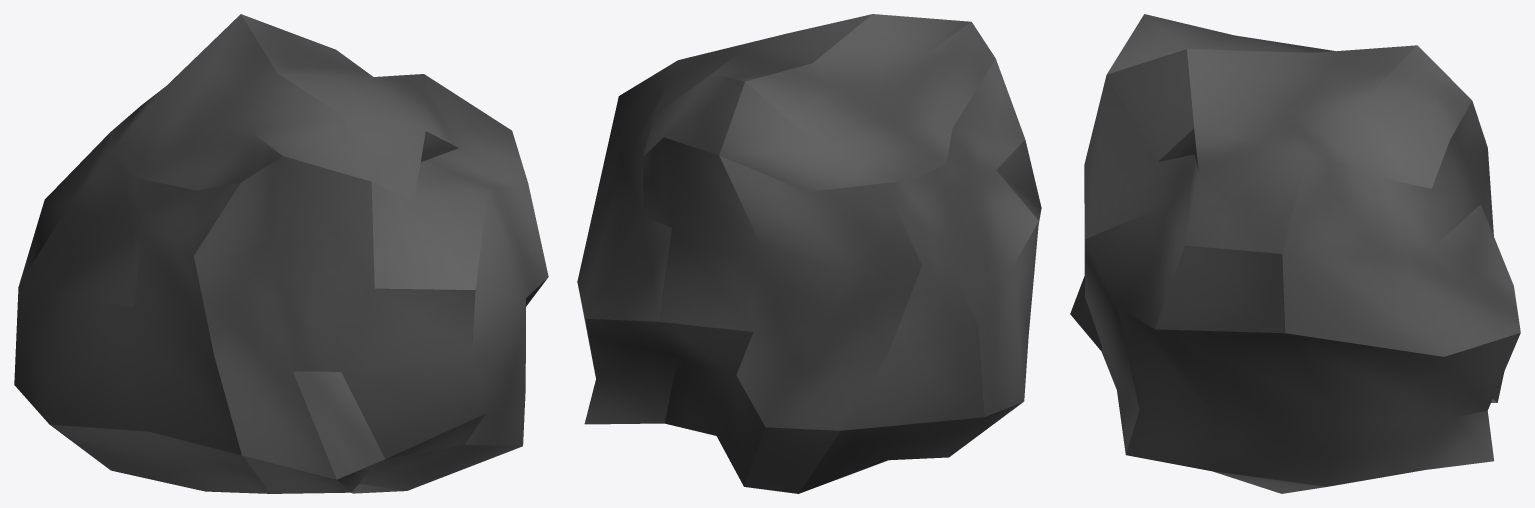
The model's file is GAMEJAMPUFFER - ForeGround Rock 5.fbx.
The picture shows the model from 3 angles, left to right: view 1: azimuth 30°, elevation 25°; view 2: azimuth 150°, elevation 25°; view 3: azimuth 270°, elevation 25°; orthographic projection. The views are drawn at different scales.
Visible parts, largest first — view 1: Cube; view 2: Cube; view 3: Cube.
Part boxes in pixels (box(x1,y1,x2,y2)): Cube: box(14, 14, 548, 493); Cube: box(577, 14, 1041, 493); Cube: box(1070, 14, 1520, 493).
Bounding box in the file's own units: 221 × 207 × 197.
Materials: 1 (1 with a texture image).
